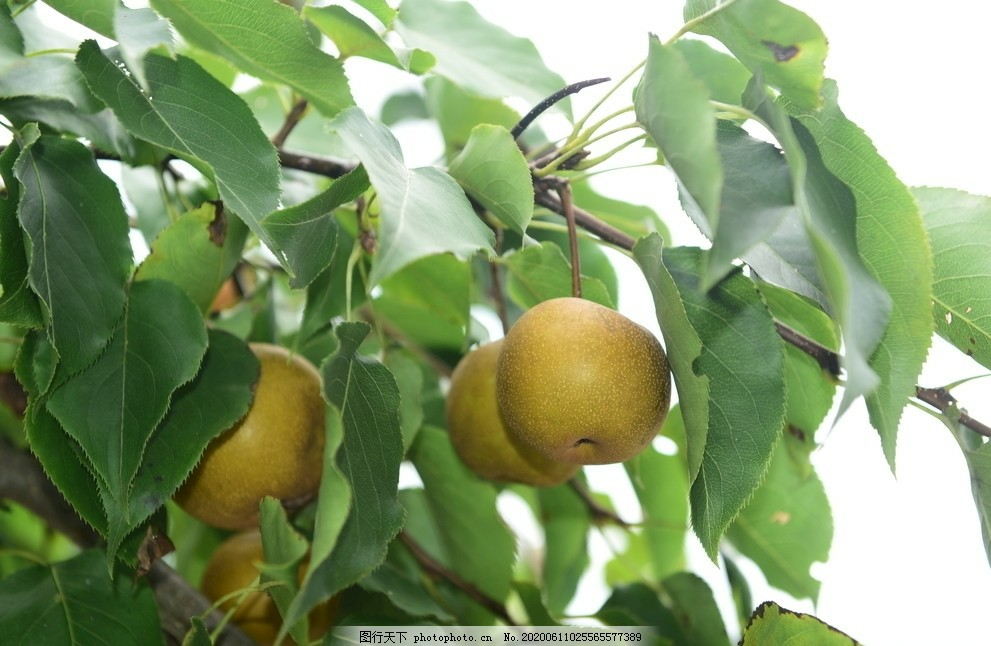pear: (157, 343, 331, 526), (497, 296, 668, 470), (446, 337, 585, 489), (200, 531, 320, 620)
